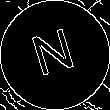N_S: (28, 25, 82, 85)
